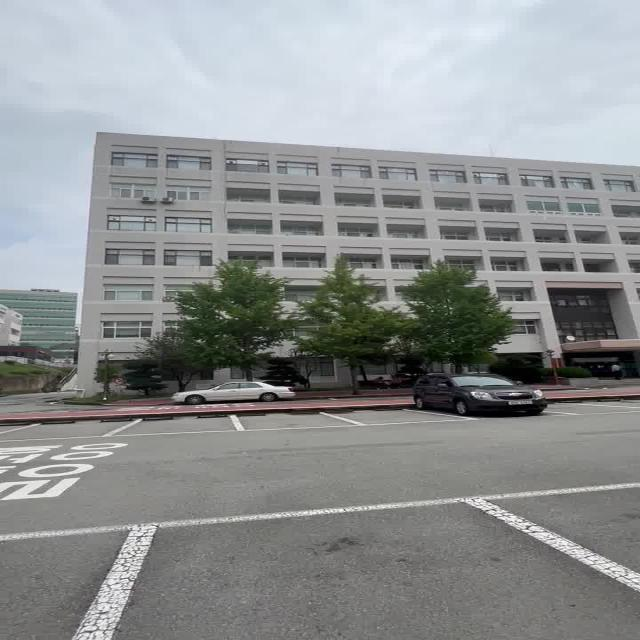building: (71, 134, 629, 275)
